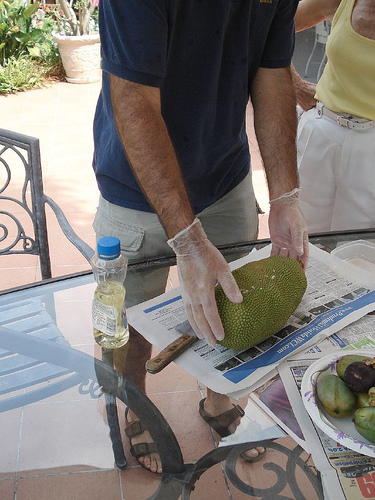jackfruit: (207, 253, 320, 355)
